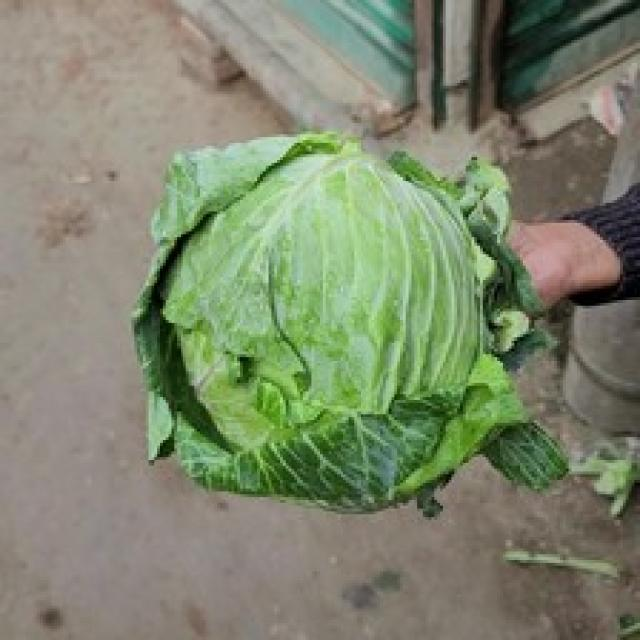Cabbage: (128, 129, 568, 514)
